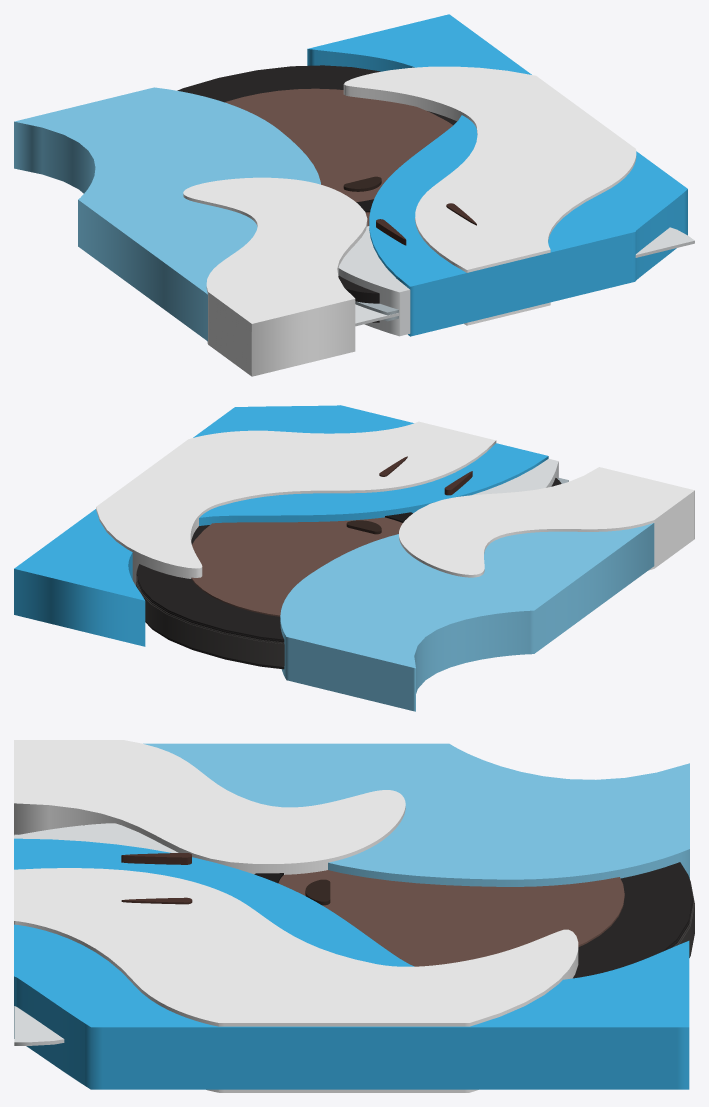
File: emoji_u1f9d6_1f3ff_200d_2640.glb
The picture shows the model from 3 angles, top to bottom: view 1: azimuth 30°, elevation 25°; view 2: azimuth 150°, elevation 25°; view 3: azimuth 270°, elevation 25°; orthographic projection. The views are drawn at different scales.
Parts seen in each view (by area): view 1: emoji_u1f9d6_1f3ff_200d_2640; view 2: emoji_u1f9d6_1f3ff_200d_2640; view 3: emoji_u1f9d6_1f3ff_200d_2640.
Part boxes in pixels (left/top/right/bottom): emoji_u1f9d6_1f3ff_200d_2640: left=14, top=14, right=694, bottom=376; emoji_u1f9d6_1f3ff_200d_2640: left=14, top=405, right=694, bottom=711; emoji_u1f9d6_1f3ff_200d_2640: left=14, top=740, right=694, bottom=1092.
Size of the model in its own units: 0.0333 by 0.0042 by 0.0336.
